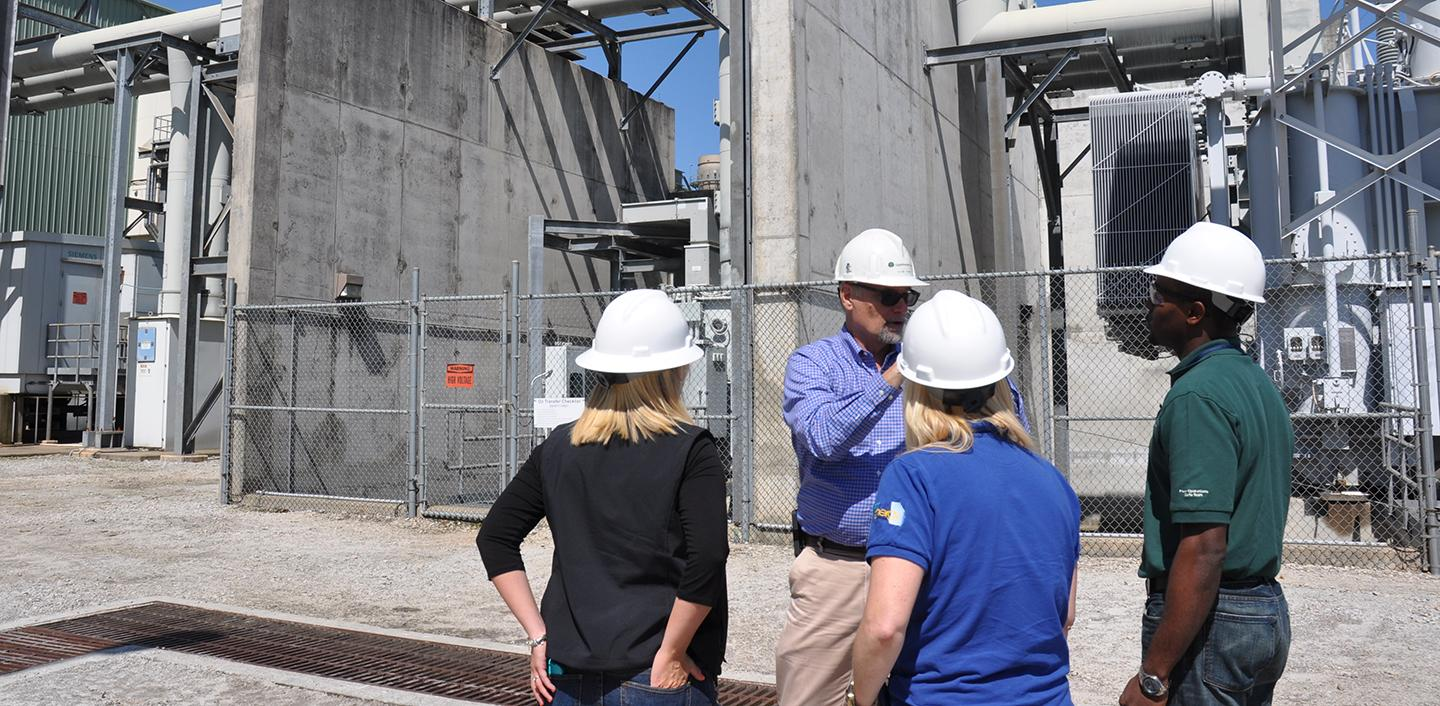helmet: (898, 291, 1012, 388), (1141, 220, 1266, 307), (583, 290, 705, 377), (836, 228, 927, 293)
